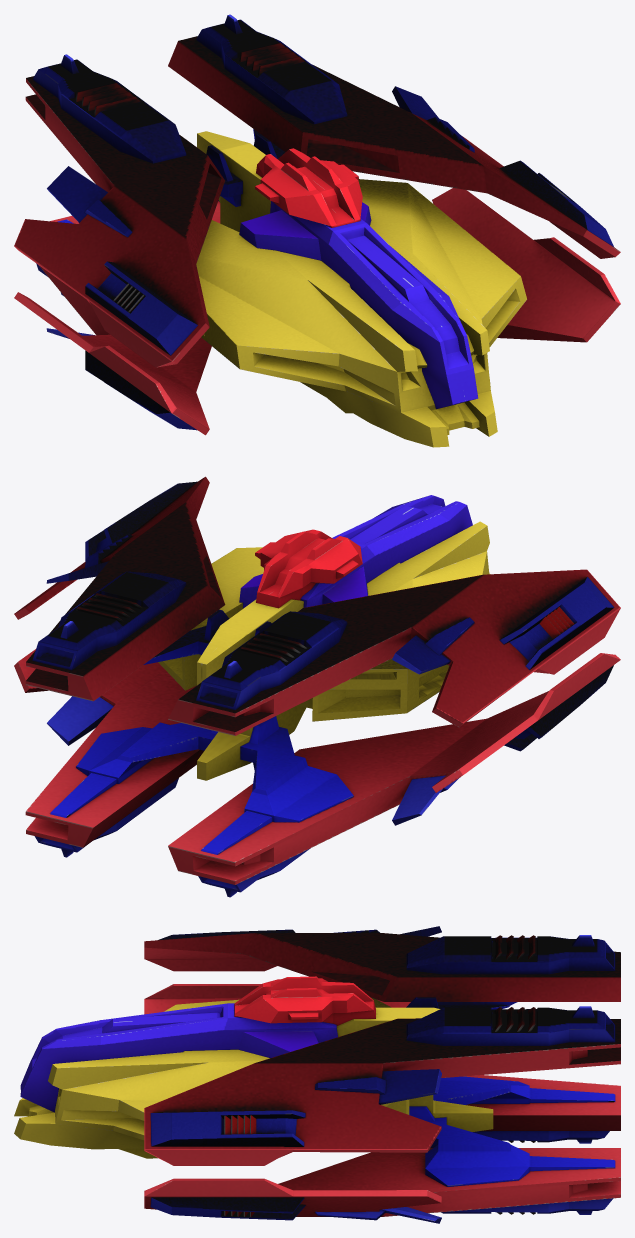
Rendered from Nexus.fbx.
3 renders of one model, top to bottom at view 1: azimuth 30°, elevation 25°; view 2: azimuth 150°, elevation 25°; view 3: azimuth 270°, elevation 25°, orthographic. The views are drawn at different scales.
Visible parts, largest first — view 1: Nexus; view 2: Nexus; view 3: Nexus.
Boxes of the visible parts, x1,y1,x2,y2 form: Nexus: (14, 14, 620, 447); Nexus: (14, 476, 620, 897); Nexus: (14, 926, 620, 1223).
Bounding box in the file's own units: 1544 × 748 × 1982.
